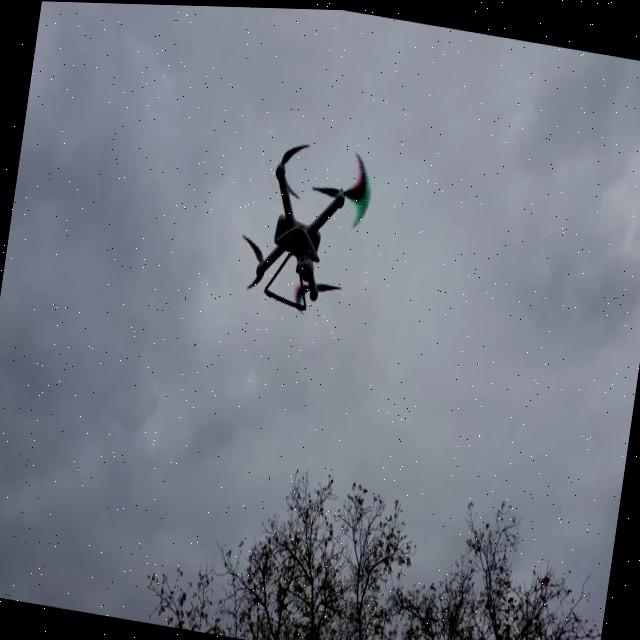drone: (231, 125, 383, 325)
